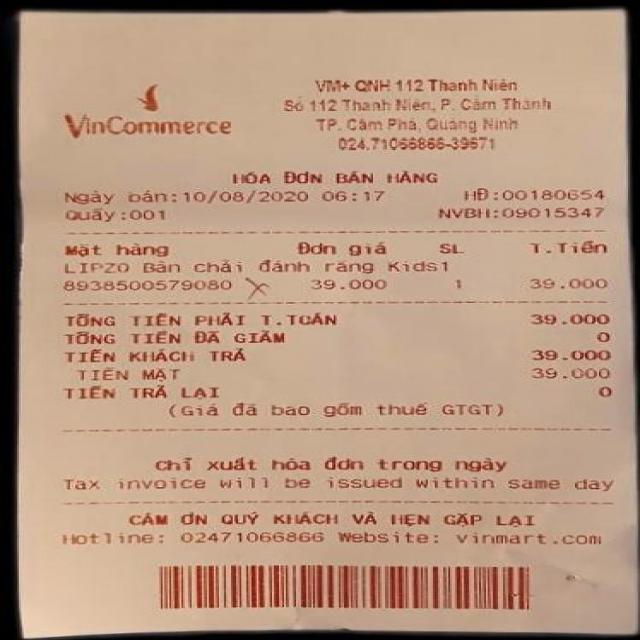Date: (182, 186, 316, 205)
Store_Name: (59, 81, 237, 145)
Total_Amount: (62, 306, 618, 330)
